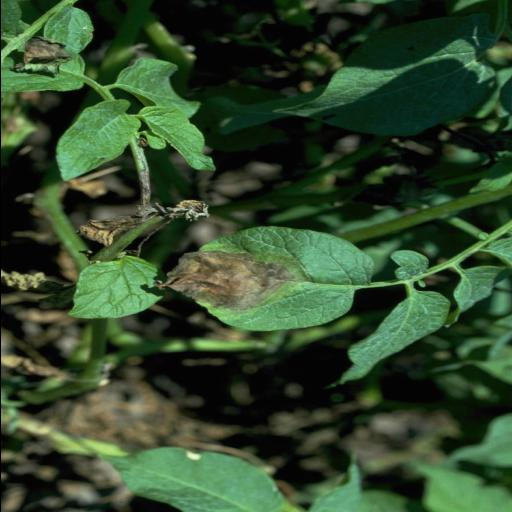disease_tomato: (164, 220, 374, 334)
